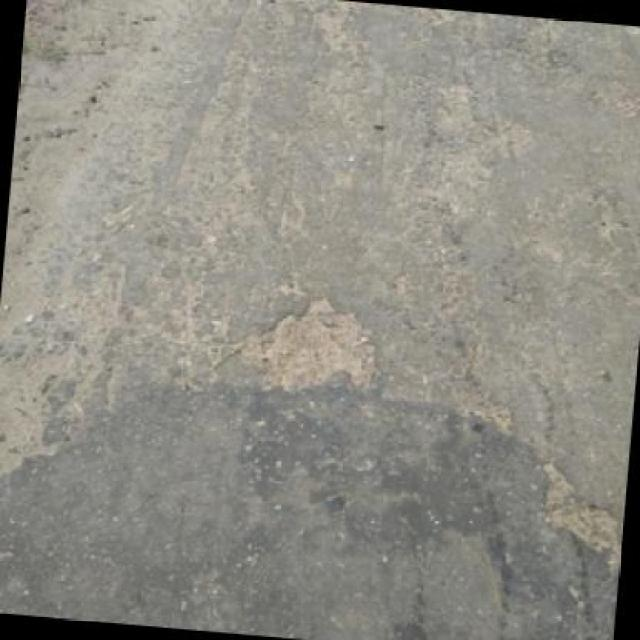pothole1: (252, 284, 388, 398), (548, 501, 623, 550)
